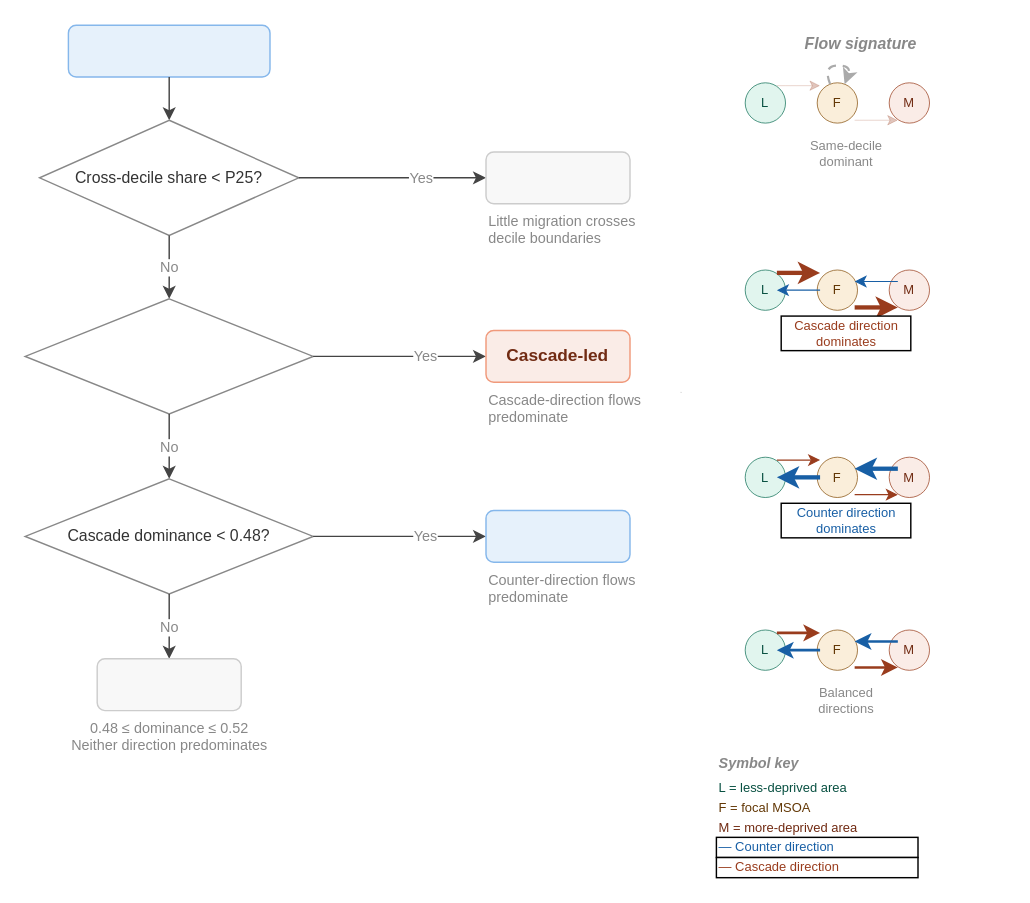
This 1030x903 diagram has some shape labels left out. Here are the shapes that lost their labels. From the top down, the box of each, then its label:
(67, 24, 270, 77): All 982 MSOAs
(485, 150, 630, 204): Lateral
(24, 297, 313, 414): Cascade dominance > 0.52?
(485, 509, 630, 562): Counter-led
(96, 657, 241, 711): Symmetric
